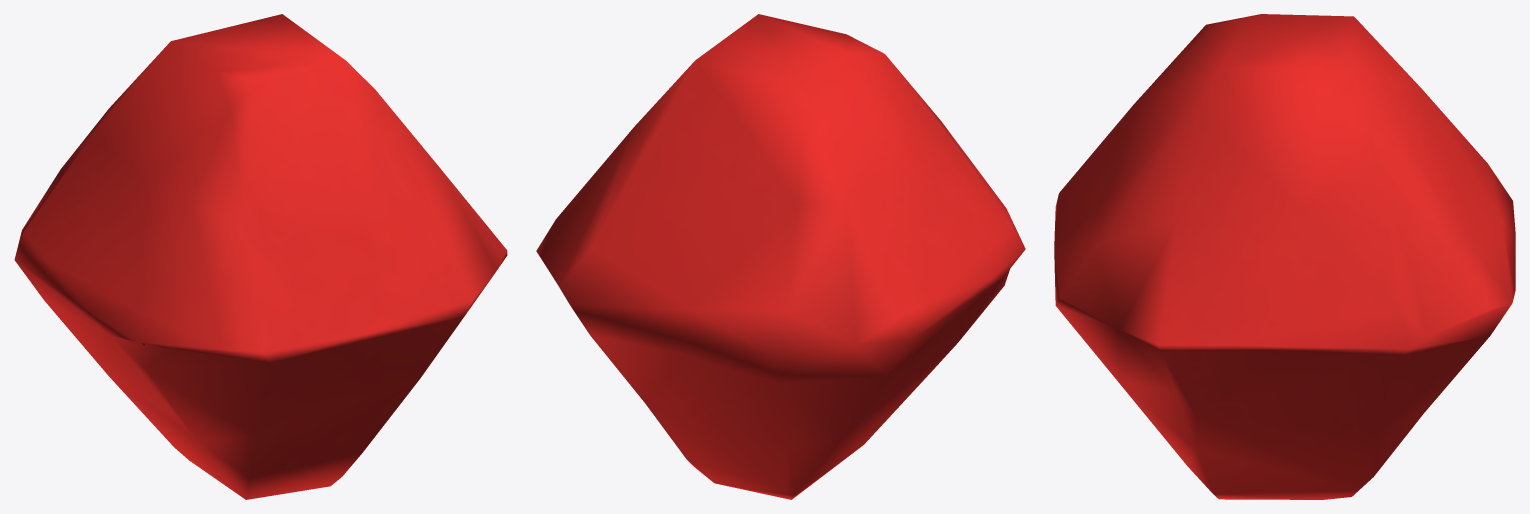
The model's file is gem_model.glb.
The picture shows the model from 3 angles, left to right: view 1: azimuth 30°, elevation 25°; view 2: azimuth 150°, elevation 25°; view 3: azimuth 270°, elevation 25°; orthographic projection. The views are drawn at different scales.
Bounding box in the file's own units: 0.9524 × 1.01 × 0.9679.
Materials: 1 (1 with a texture image).
